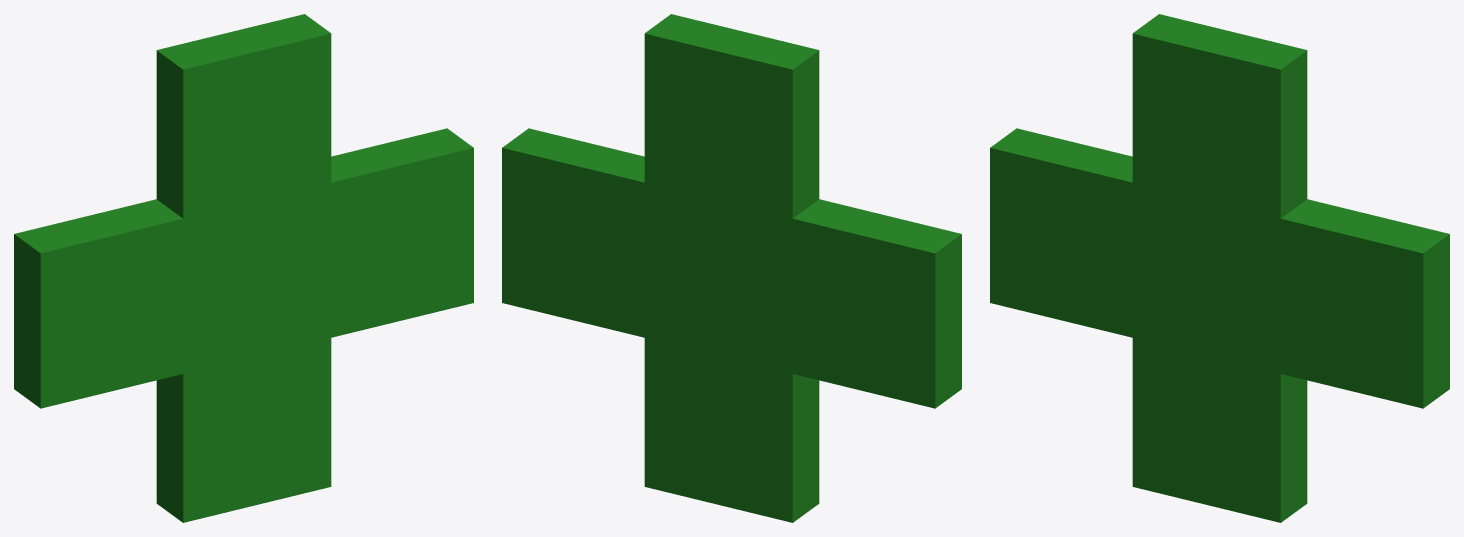
File: Proto_Health_Sign_01.fbx
3 views of the same model, side by side, from view 1: azimuth 30°, elevation 25°; view 2: azimuth 150°, elevation 25°; view 3: azimuth 330°, elevation 25° (orthographic).
Parts seen in each view (by area): view 1: Proto_Health_Sign_01; view 2: Proto_Health_Sign_01; view 3: Proto_Health_Sign_01.
Part boxes in pixels (x1,y1,x2,y2): Proto_Health_Sign_01: (14,14,473,522); Proto_Health_Sign_01: (502,14,961,522); Proto_Health_Sign_01: (990,14,1449,522).
Bounding box in the file's own units: 0.2533 × 0.2533 × 0.027.
